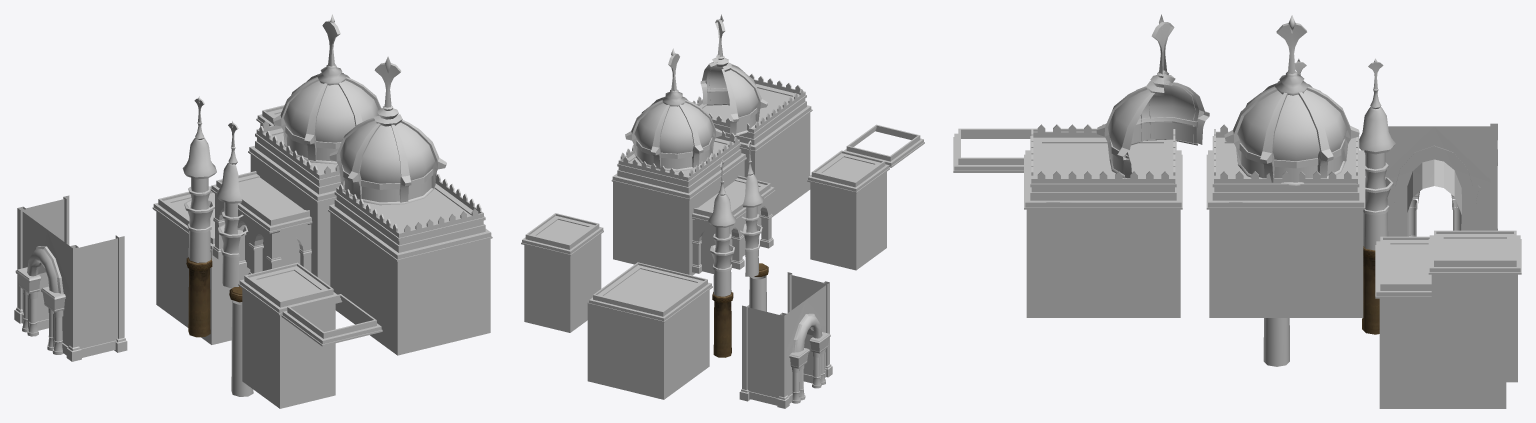
Rendered from Dxlc_012.FBX.
3 views of the same model, side by side, from view 1: azimuth 30°, elevation 25°; view 2: azimuth 150°, elevation 25°; view 3: azimuth 270°, elevation 25° (orthographic). The views are drawn at different scales.
Parts seen in each view (by area): view 1: xke_jz_jianzhu_006_3, xke_jz_jianzhu_005, xke_jz_jianzhu_007_1, xke_jz_ding_004_1, xke_jz_ding_001, xke_jz_jianzhu_004, xke_jz_jianzhu_001, xke_jz_jianzhu_003, xke_jz_jianzhu_006_1, xke_jz_ding_003, xke_jz_ding_003_1, xke_jz_jianzhu_006_2 (+6 smaller); view 2: xke_jz_jianzhu_001, xke_jz_jianzhu_003, xke_jz_jianzhu_005, xke_jz_jianzhu_002, xke_jz_jianzhu_007_1, xke_jz_ding_001, xke_jz_jianzhu_006_3, xke_jz_jianzhu_004, xke_jz_ding_004_1, xke_jz_jianzhu_006_1, xke_jz_ding_003, xke_jz_ding_003_1 (+7 smaller); view 3: xke_jz_jianzhu_003, xke_jz_jianzhu_006_3, xke_jz_jianzhu_002, xke_jz_jianzhu_001, xke_jz_ding_001, xke_jz_jianzhu_005, xke_jz_jianzhu_006_1, xke_jz_ding_004_1, xke_jz_jianzhu_006_2, xke_jz_ding_003, xke_jz_jianzhu_007_4, xke_jz_dizuo_001_1 (+2 smaller).
Boxes of the visible parts, left/top/right/bottom form: xke_jz_jianzhu_006_3: left=330, top=213, right=490, bottom=355; xke_jz_jianzhu_005: left=14, top=195, right=127, bottom=361; xke_jz_jianzhu_007_1: left=242, top=289, right=335, bottom=408; xke_jz_ding_004_1: left=329, top=118, right=446, bottom=205; xke_jz_ding_001: left=273, top=14, right=381, bottom=164; xke_jz_jianzhu_004: left=210, top=171, right=312, bottom=274; xke_jz_jianzhu_001: left=152, top=186, right=250, bottom=344; xke_jz_jianzhu_003: left=248, top=121, right=341, bottom=285; xke_jz_jianzhu_006_1: left=328, top=174, right=492, bottom=261; xke_jz_ding_003: left=182, top=96, right=216, bottom=262; xke_jz_ding_003_1: left=216, top=121, right=248, bottom=287; xke_jz_jianzhu_006_2: left=344, top=183, right=484, bottom=232; xke_jz_jianzhu_001: left=587, top=262, right=712, bottom=399; xke_jz_jianzhu_003: left=611, top=130, right=746, bottom=275; xke_jz_jianzhu_005: left=739, top=272, right=832, bottom=408; xke_jz_jianzhu_002: left=521, top=213, right=603, bottom=332; xke_jz_jianzhu_007_1: left=810, top=172, right=886, bottom=270; xke_jz_ding_001: left=625, top=48, right=722, bottom=171; xke_jz_jianzhu_006_3: left=740, top=113, right=810, bottom=225; xke_jz_jianzhu_004: left=692, top=175, right=775, bottom=273; xke_jz_ding_004_1: left=700, top=62, right=767, bottom=136; xke_jz_jianzhu_006_1: left=692, top=73, right=812, bottom=152; xke_jz_ding_003: left=708, top=159, right=735, bottom=296; xke_jz_ding_003_1: left=740, top=140, right=763, bottom=276; xke_jz_jianzhu_003: left=1206, top=124, right=1365, bottom=317; xke_jz_jianzhu_006_3: left=1026, top=209, right=1180, bottom=317; xke_jz_jianzhu_002: left=1428, top=230, right=1521, bottom=382; xke_jz_jianzhu_001: left=1375, top=236, right=1506, bottom=408; xke_jz_ding_001: left=1224, top=15, right=1359, bottom=185; xke_jz_jianzhu_005: left=1385, top=123, right=1497, bottom=236; xke_jz_jianzhu_006_1: left=1024, top=124, right=1182, bottom=209; xke_jz_ding_004_1: left=1096, top=82, right=1209, bottom=178; xke_jz_jianzhu_006_2: left=1032, top=137, right=1173, bottom=184; xke_jz_ding_003: left=1359, top=58, right=1395, bottom=250; xke_jz_jianzhu_007_4: left=953, top=128, right=1037, bottom=172; xke_jz_dizuo_001_1: left=1263, top=318, right=1289, bottom=366.
Bounding box in the file's own units: 2216 × 2983 × 2320.
